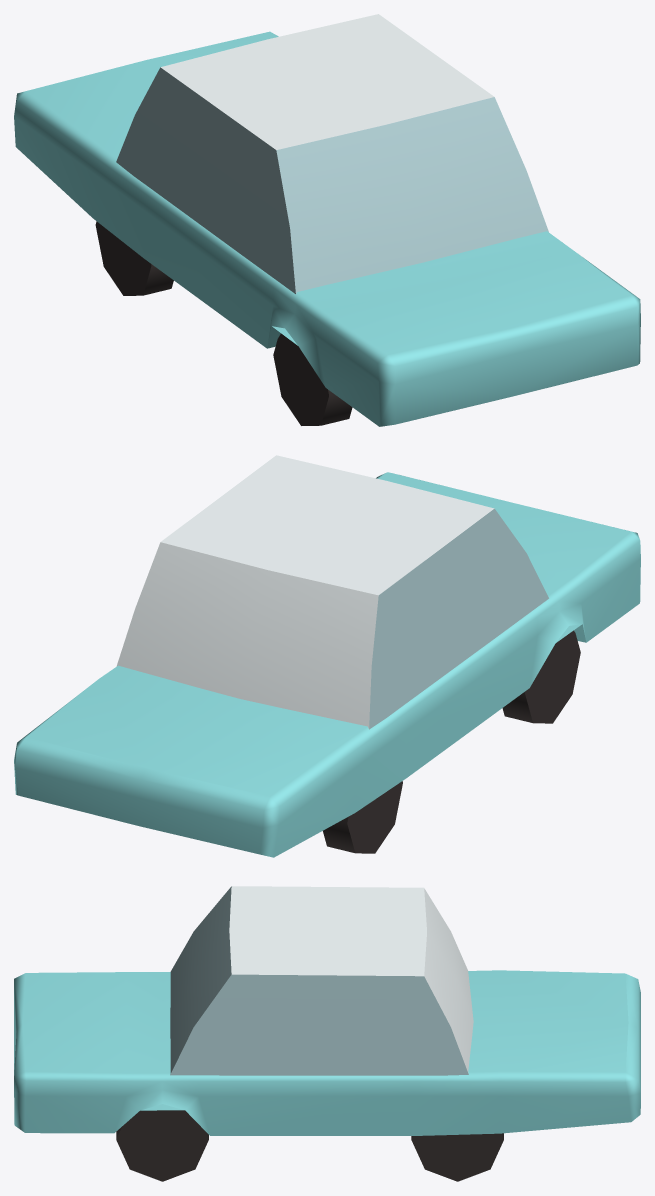
Rendered from Car_WIP.fbx.
3 views of the same model, one above another, from view 1: azimuth 30°, elevation 25°; view 2: azimuth 150°, elevation 25°; view 3: azimuth 270°, elevation 25° (orthographic). The views are drawn at different scales.
Visible parts, largest first — view 1: Car_Low2; view 2: Car_Low2; view 3: Car_Low2.
Part boxes in pixels (x1=…): Car_Low2: x1=14, y1=14, x2=640, y2=426; Car_Low2: x1=14, y1=455, x2=640, y2=857; Car_Low2: x1=14, y1=886, x2=640, y2=1181.
Size of the model in its own units: 76.11 by 61.81 by 175.
